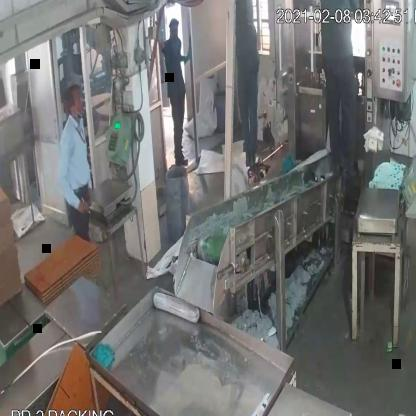no_glove: (56, 147, 89, 222)
